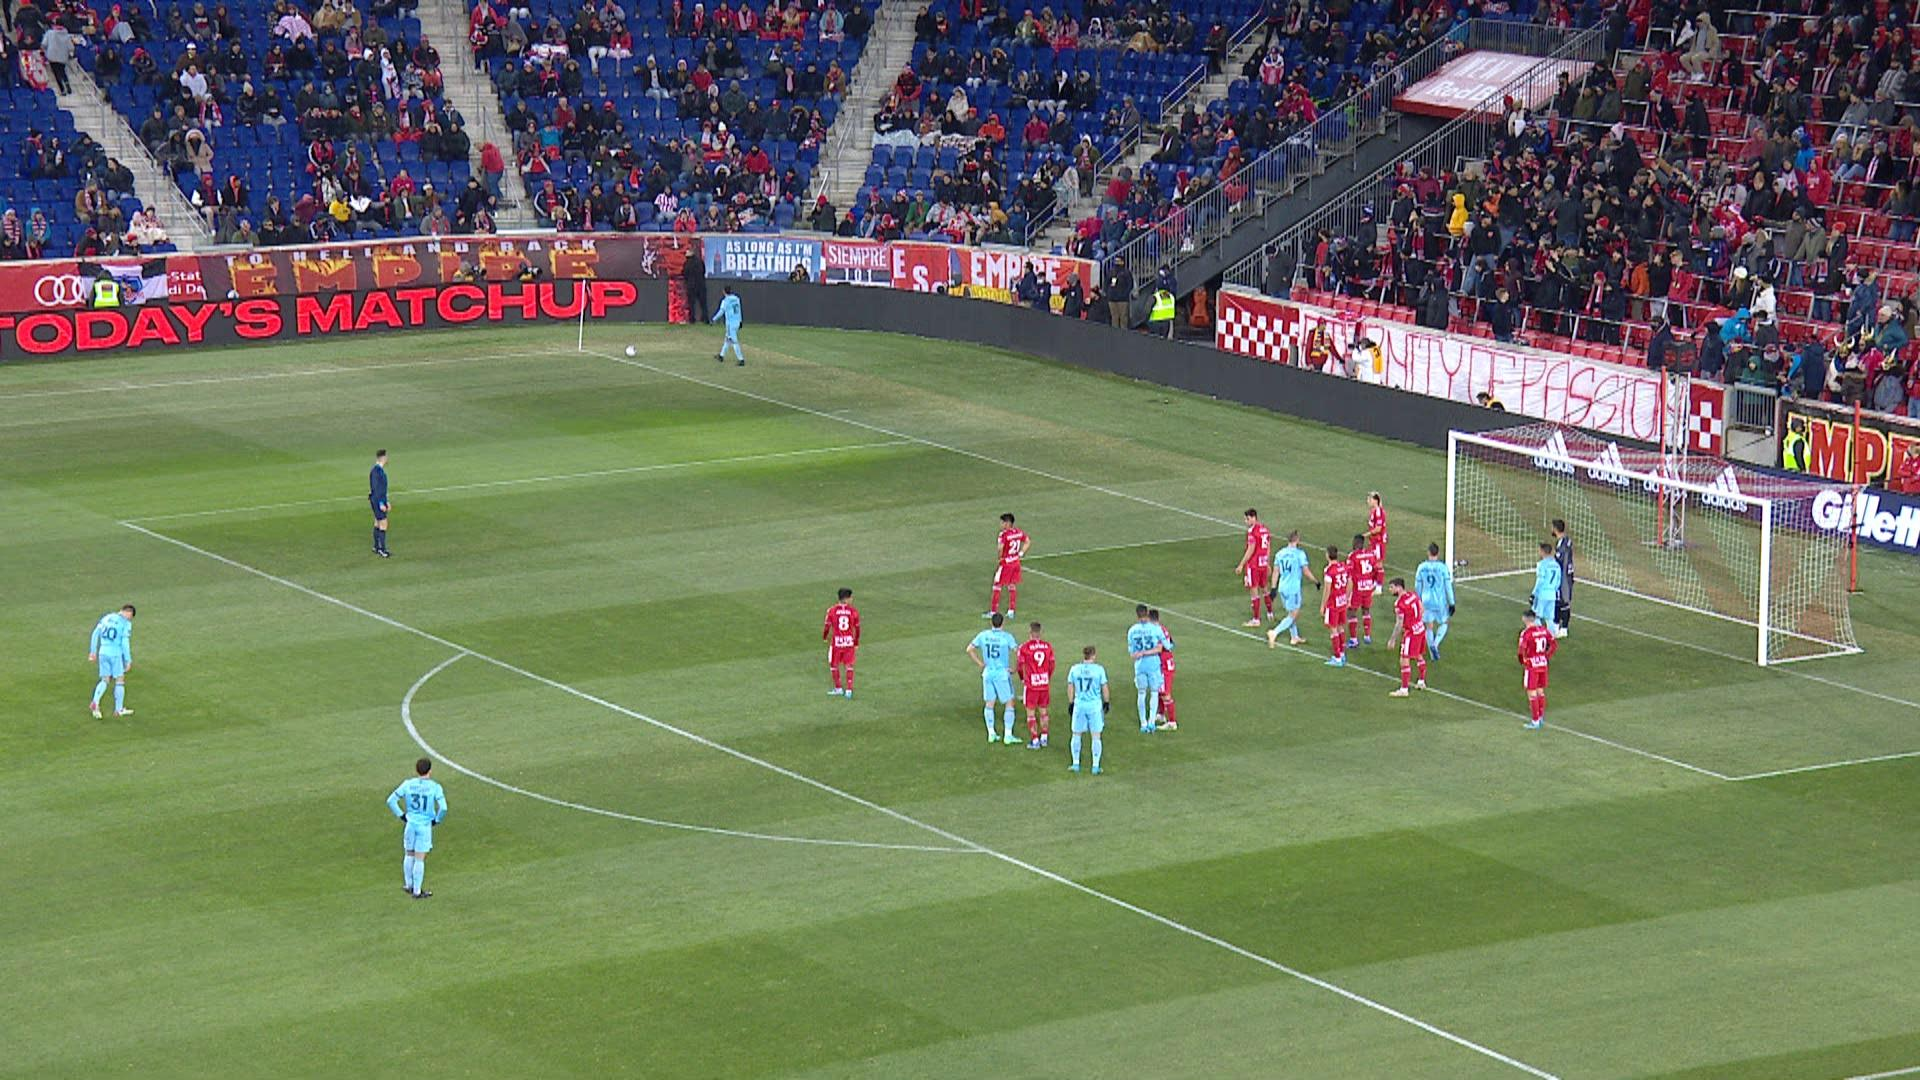football: (625, 345, 638, 357)
